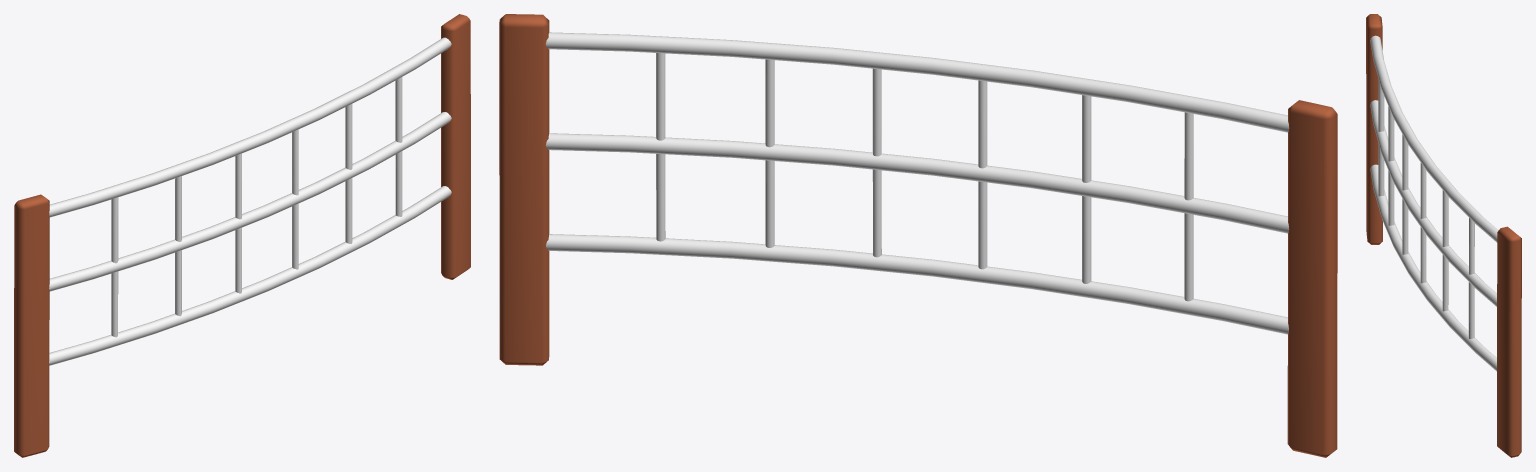
The picture shows the model from 3 angles, left to right: view 1: azimuth 30°, elevation 25°; view 2: azimuth 150°, elevation 25°; view 3: azimuth 270°, elevation 25°; orthographic projection. The views are drawn at different scales.
Parts seen in each view (by area): view 1: fileler2; view 2: fileler2; view 3: fileler2.
Part boxes in pixels (x1=…): fileler2: x1=14, y1=14, x2=470, y2=457; fileler2: x1=499, y1=14, x2=1337, y2=457; fileler2: x1=1366, y1=14, x2=1521, y2=457.
Bounding box in the file's own units: 272 × 124 × 79.16.
